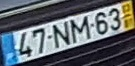3: (107, 6, 123, 32)
4: (17, 31, 33, 59)
6: (93, 9, 109, 36)
7: (30, 27, 46, 55)
M: (69, 14, 92, 45)
N: (51, 20, 72, 51)
